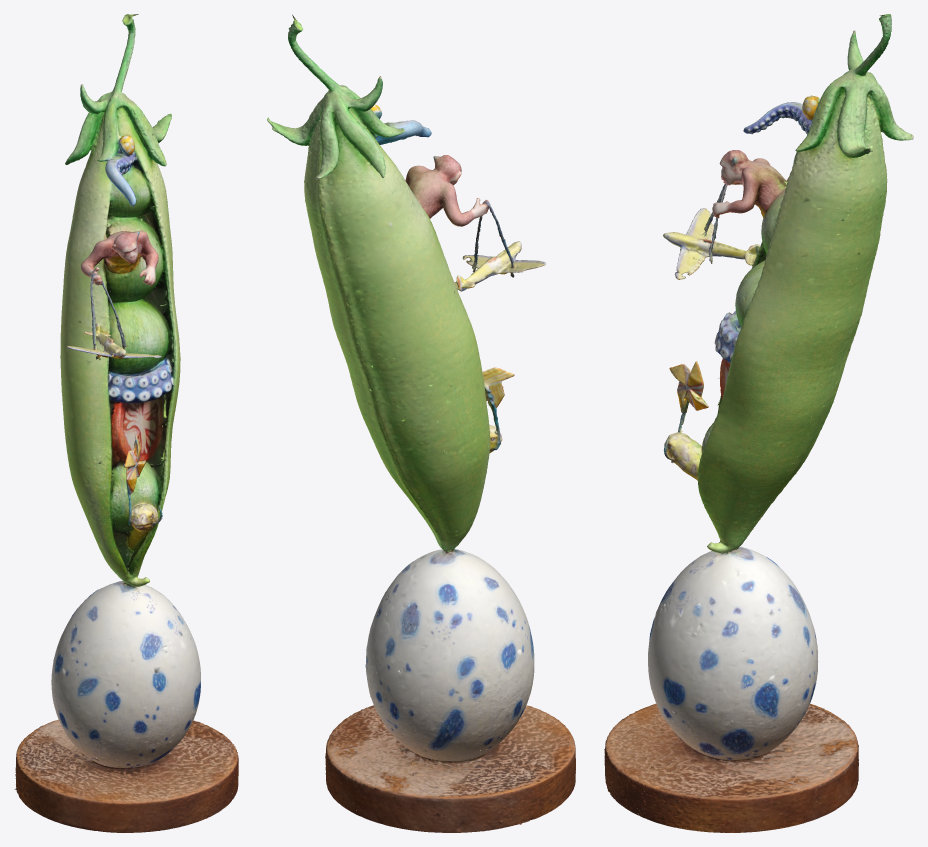
The model's file is sugandh-matar.glb.
3 views of the same model, side by side, from view 1: azimuth 30°, elevation 25°; view 2: azimuth 150°, elevation 25°; view 3: azimuth 270°, elevation 25° (orthographic). The views are drawn at different scales.
Parts seen in each view (by area): view 1: eggshellwithBeans_001.001, eggshellwithBeans_001.002; view 2: eggshellwithBeans_001.001, eggshellwithBeans_001.002; view 3: eggshellwithBeans_001.001, eggshellwithBeans_001.002.
Part boxes in pixels (<box>): eggshellwithBeans_001.001: <box>14,14,238,831</box>; eggshellwithBeans_001.002: <box>65,16,236,832</box>; eggshellwithBeans_001.001: <box>267,14,575,832</box>; eggshellwithBeans_001.002: <box>288,23,570,761</box>; eggshellwithBeans_001.001: <box>605,14,913,832</box>; eggshellwithBeans_001.002: <box>604,15,913,814</box>.
Bounding box in the file's own units: 0.148 × 0.5 × 0.1738.
2 materials, 2 textured.
